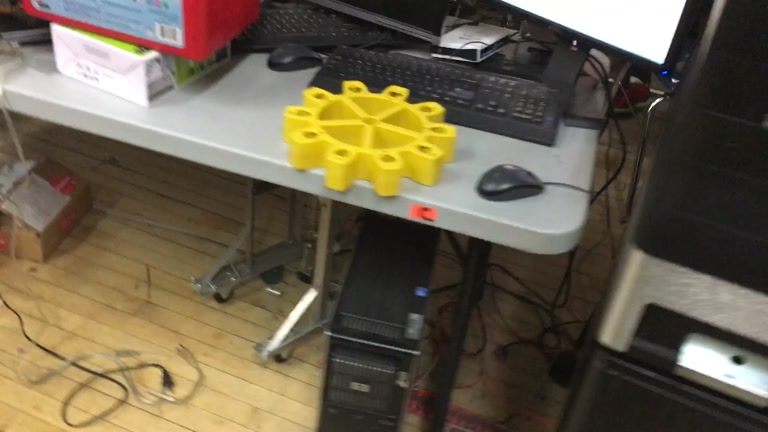gear: (282, 80, 457, 198)
